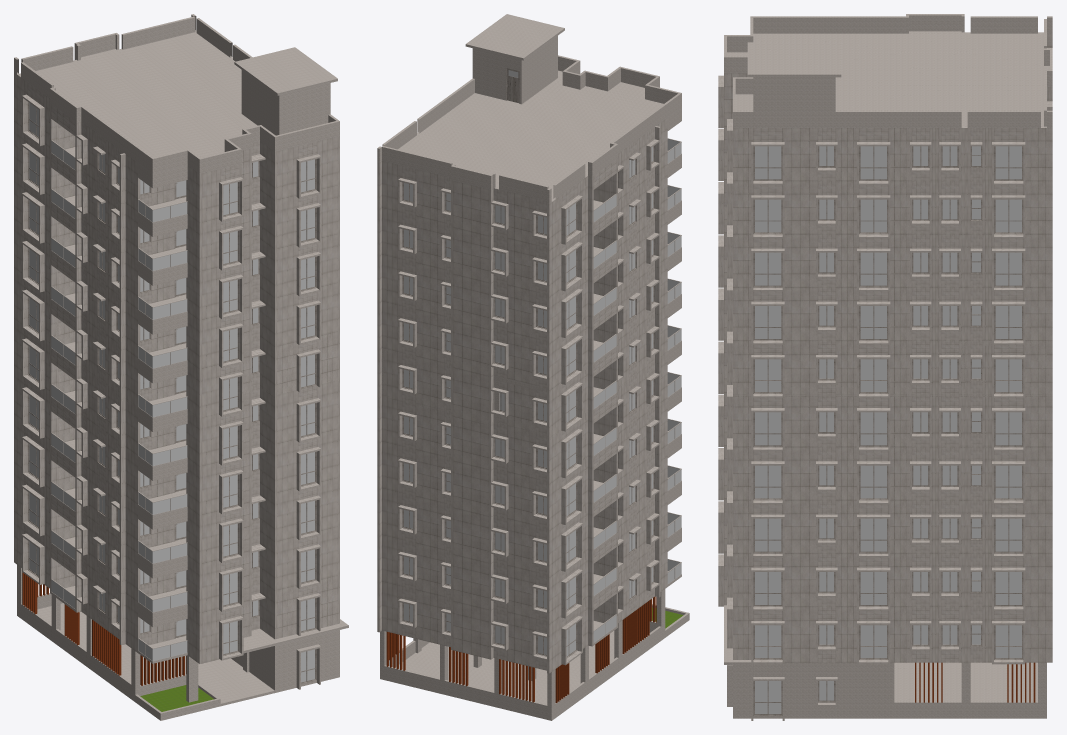
The model's file is building.fbx.
3 views of the same model, side by side, from view 1: azimuth 30°, elevation 25°; view 2: azimuth 150°, elevation 25°; view 3: azimuth 270°, elevation 25° (orthographic). The views are drawn at different scales.
Visible parts, largest first — view 1: WALL_2, WALL, ROOF_1, GROUND_FLOOR_1, BALCONY, BALCONY_2, WINDOW, WINDOW_2, LOUVER_1, DOOR, DOOR_2; view 2: WALL, WALL_2, ROOF_1, GROUND_FLOOR_1, WINDOW, WINDOW_2, LOUVER_1, BALCONY, BALCONY_2; view 3: WALL_2, WALL, ROOF_1, WINDOW, WINDOW_2, GROUND_FLOOR_1, LOUVER_1, GROUND_FLOOR_2.
Boxes of the visible parts, x1,y1,x2,y2 form: WALL_2: (14, 30, 339, 419); WALL: (14, 319, 339, 663); ROOF_1: (14, 14, 339, 173); GROUND_FLOOR_1: (17, 565, 348, 720); BALCONY: (51, 384, 187, 663); BALCONY_2: (51, 140, 187, 419); WINDOW: (27, 345, 316, 655); WINDOW_2: (27, 102, 316, 411); LOUVER_1: (22, 319, 186, 685); DOOR: (174, 424, 186, 638); DOOR_2: (174, 180, 186, 394); WALL: (377, 351, 667, 673); WALL_2: (377, 118, 667, 439); ROOF_1: (377, 14, 681, 203); GROUND_FLOOR_1: (380, 589, 689, 720); WINDOW: (402, 379, 654, 658); WINDOW_2: (402, 145, 654, 424); LOUVER_1: (382, 348, 656, 702); BALCONY: (593, 337, 681, 645); BALCONY_2: (593, 107, 681, 410); WALL_2: (718, 32, 1052, 398); WALL: (718, 339, 1052, 664); ROOF_1: (724, 14, 1052, 127); WINDOW: (753, 412, 1023, 659); WINDOW_2: (753, 146, 1023, 393); GROUND_FLOOR_1: (724, 605, 1046, 720); LOUVER_1: (915, 340, 1046, 702); GROUND_FLOOR_2: (753, 681, 835, 715).
Size of the model in its own units: 486 by 1458 by 684.
12 materials, 10 textured.
